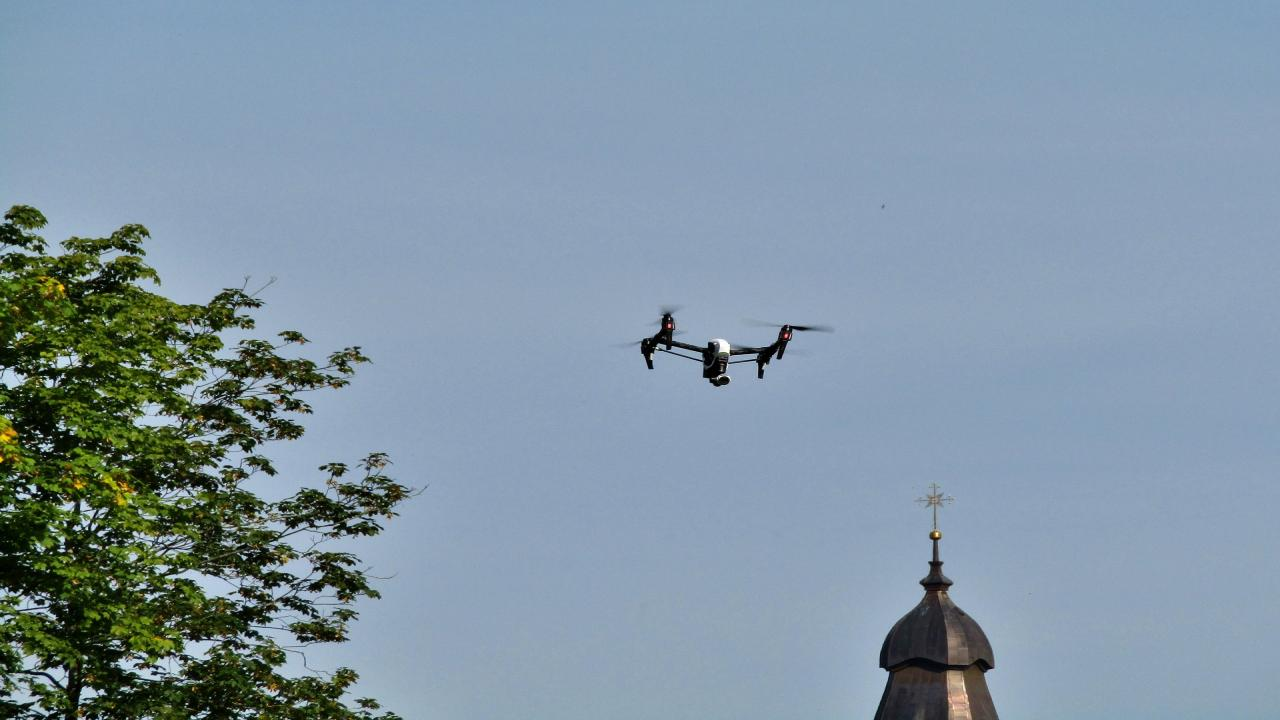Drone: (614, 296, 845, 398)
